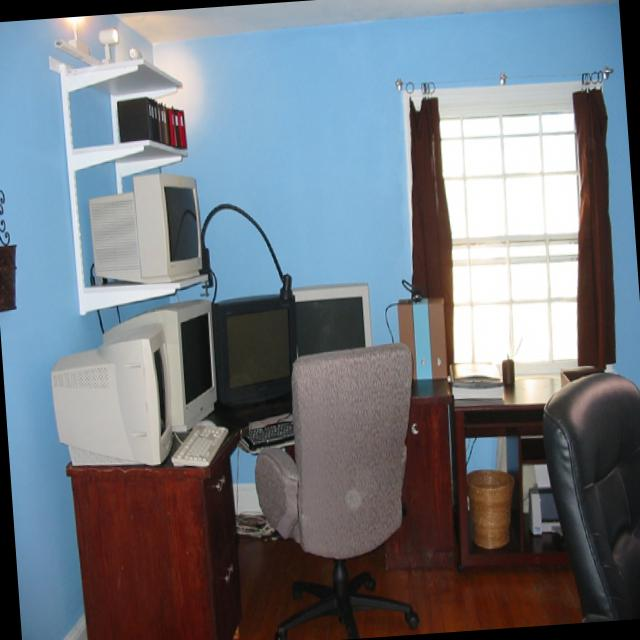2001: (402, 81, 607, 367)
binders: (115, 97, 187, 149)
bottle crop: (501, 359, 515, 387)
box contants: (397, 297, 445, 378)
ceiling beam: (114, 0, 618, 44)
chair -occluded-: (253, 346, 418, 640), (539, 372, 640, 620)
curtain crop: (572, 89, 617, 365), (410, 98, 453, 363)
decorative object: (0, 218, 15, 310)
desk calendar: (65, 375, 456, 640)
floor -X: (229, 507, 579, 640)
keyboard crop: (170, 425, 227, 468), (244, 420, 292, 449)
light fixture: (201, 204, 295, 306), (126, 43, 144, 58)
lights: (55, 15, 119, 66)
monitor crop: (51, 326, 171, 466), (101, 299, 216, 432), (89, 173, 203, 279), (212, 292, 296, 407), (290, 282, 372, 356)
papers: (450, 360, 504, 399)
printer: (528, 462, 562, 536)
shelves crop: (58, 60, 210, 317)
table -X: (449, 374, 569, 547)
trash compactor: (466, 467, 514, 547)
wall clock: (153, 6, 640, 480), (0, 15, 187, 640)
